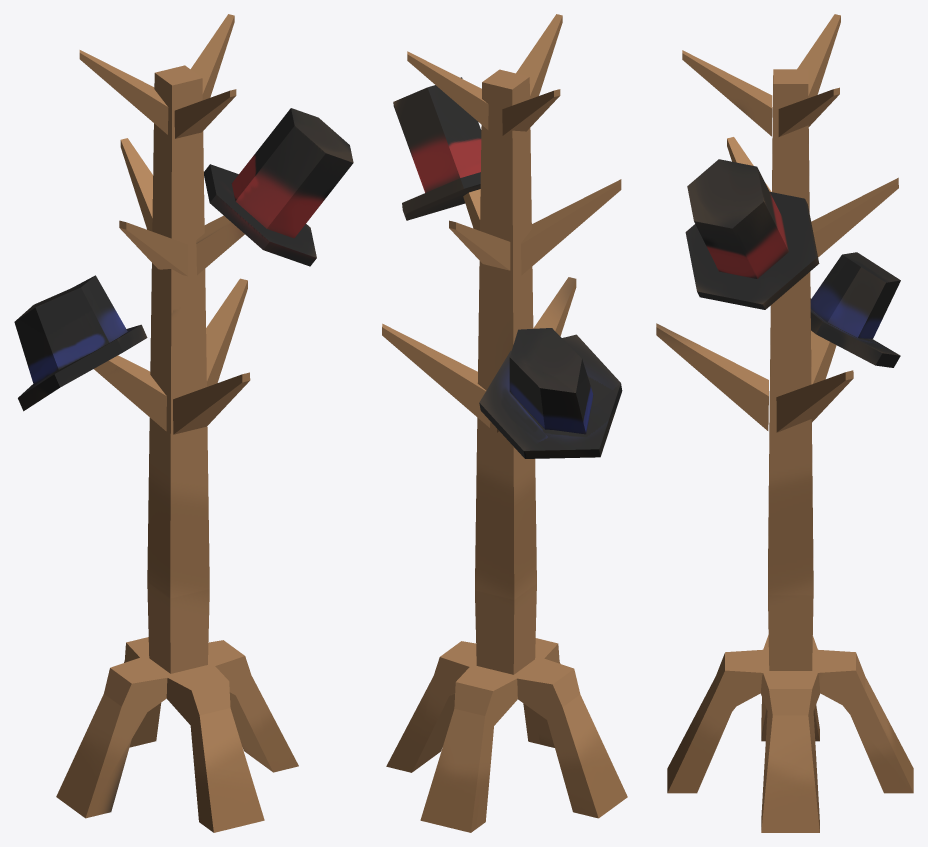
File: Hat hanger.fbx
3 renders of one model, left to right at view 1: azimuth 30°, elevation 25°; view 2: azimuth 150°, elevation 25°; view 3: azimuth 270°, elevation 25°, orthographic.
Visible parts, largest first — view 1: Cube; view 2: Cube; view 3: Cube.
Boxes of the visible parts, <box> form: Cube: <box>14,14,353,832</box>; Cube: <box>382,14,627,832</box>; Cube: <box>656,14,913,832</box>.
Size of the model in its own units: 186 by 481 by 154.
